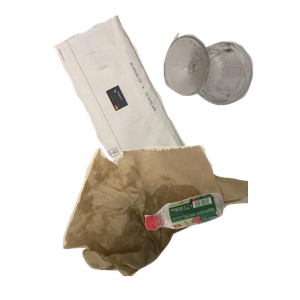glass: (161, 30, 300, 128)
paper: (51, 13, 230, 186)
plastic: (142, 191, 300, 300)
trash: (60, 142, 300, 300)
